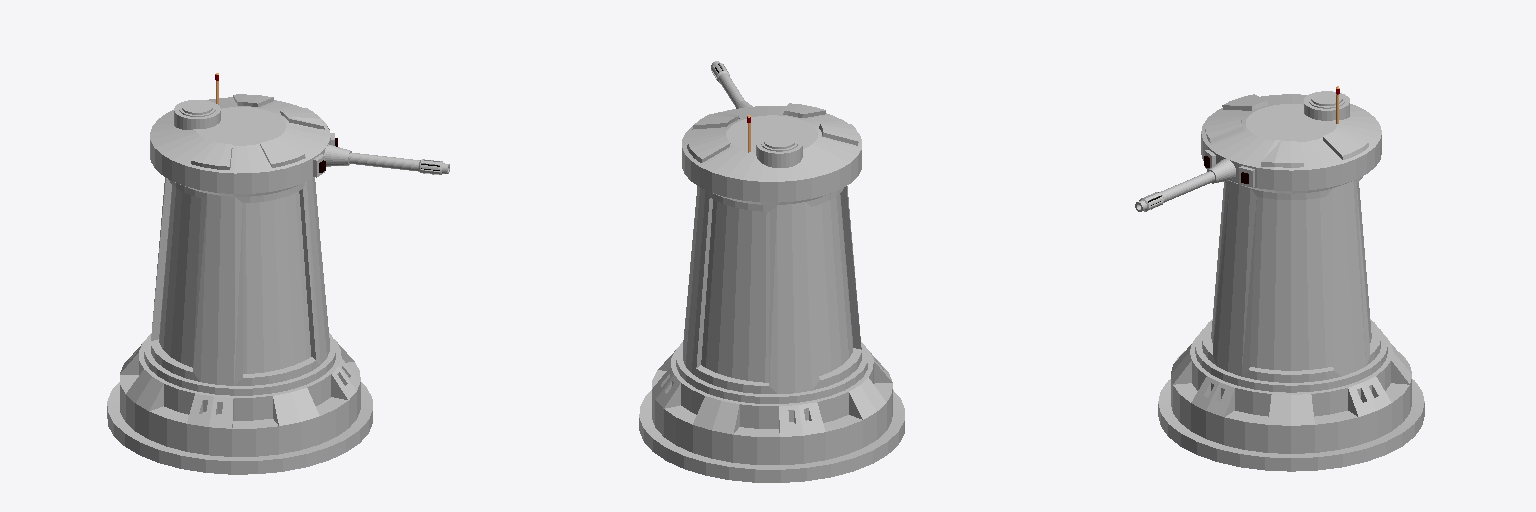
Rendered from Rebel_Turret.obj.
3 views of the same model, side by side, from view 1: azimuth 30°, elevation 25°; view 2: azimuth 150°, elevation 25°; view 3: azimuth 270°, elevation 25° (orthographic).
Visible parts, largest first — view 1: Circle, Circle.001, Cylinder; view 2: Circle, Circle.001, Cylinder; view 3: Circle, Circle.001, Cylinder.
Part boxes in pixels (x1,y1,x2,y2): Circle: (107, 177, 372, 474); Circle.001: (150, 94, 337, 196); Cylinder: (324, 144, 449, 174); Circle: (639, 186, 904, 482); Circle.001: (682, 103, 861, 204); Cylinder: (711, 61, 752, 118); Circle: (1158, 176, 1424, 471); Circle.001: (1201, 91, 1381, 193); Cylinder: (1135, 159, 1235, 211).
Bounding box in the file's own units: 13.17 × 16.47 × 13.16.